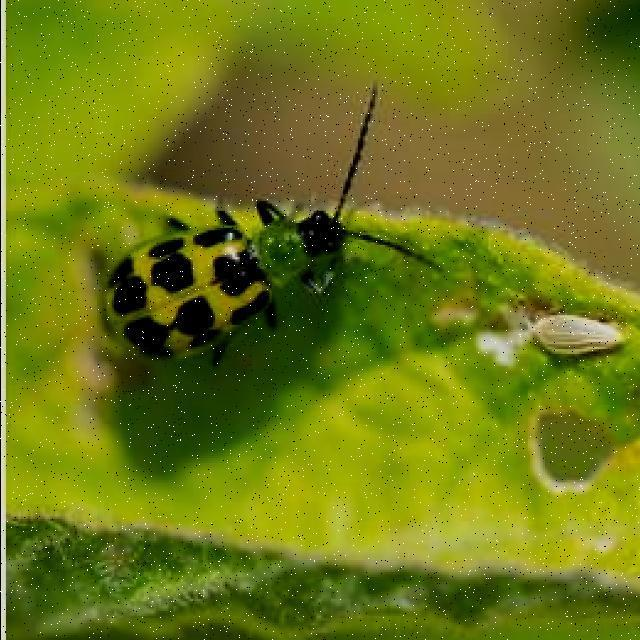gusano_verde: (96, 80, 439, 370)
